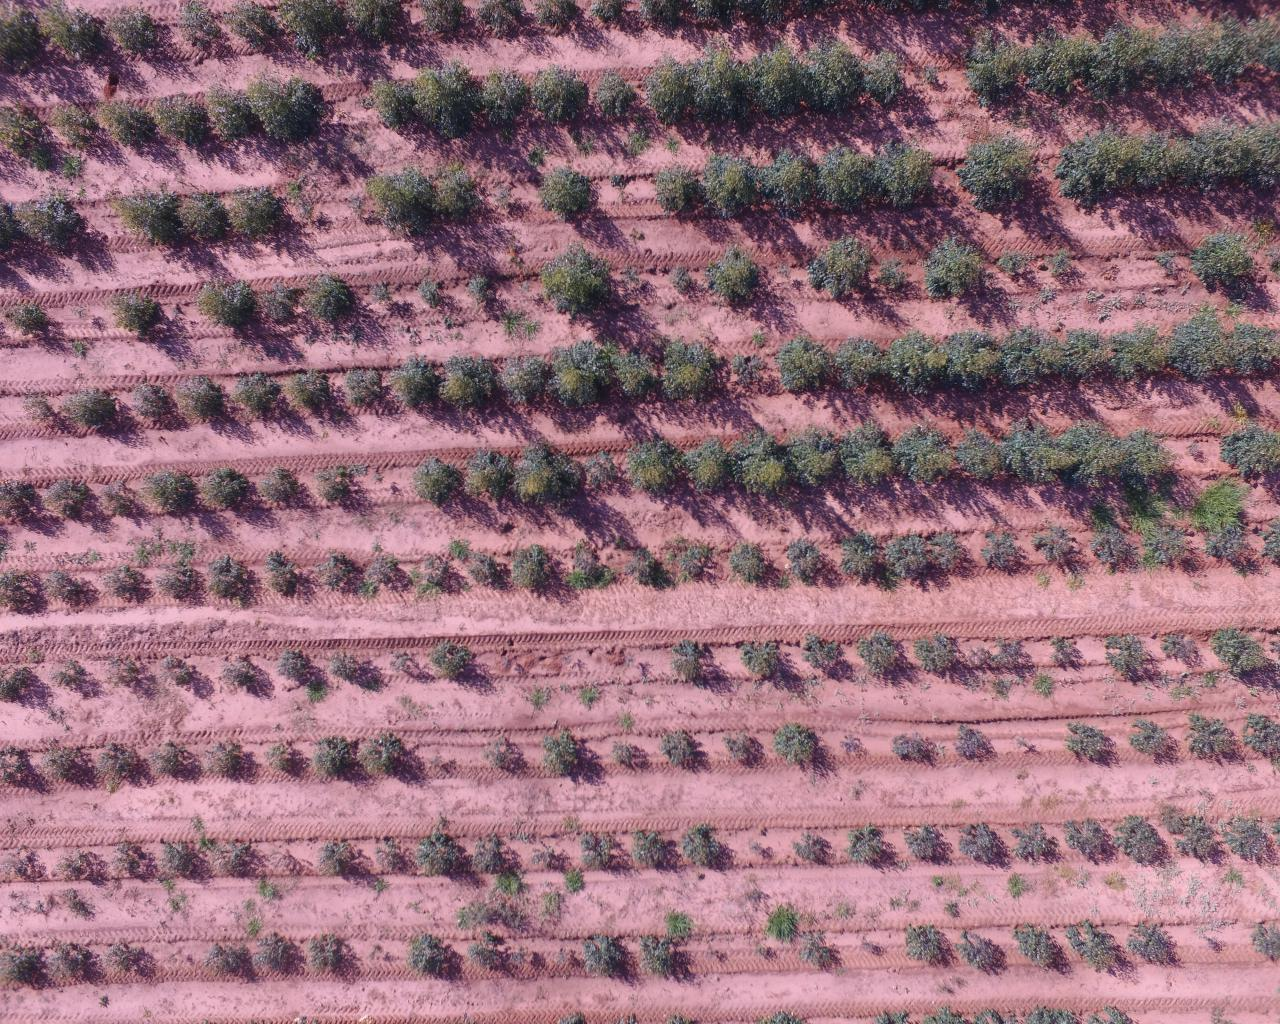Tree: (954, 133, 1033, 210), (20, 201, 106, 269), (545, 243, 619, 322), (253, 76, 327, 147), (1062, 135, 1133, 208), (921, 234, 993, 305), (745, 43, 808, 118), (113, 186, 178, 257), (536, 730, 609, 789), (811, 36, 860, 122), (1004, 418, 1060, 494), (704, 241, 765, 309), (879, 141, 934, 215), (418, 70, 479, 137), (838, 422, 897, 491), (810, 238, 868, 307), (1063, 417, 1119, 488), (357, 735, 429, 790), (115, 290, 171, 360), (731, 428, 786, 501), (370, 172, 434, 233), (1002, 326, 1062, 391), (895, 418, 952, 486), (1192, 232, 1255, 293), (515, 448, 582, 505), (762, 153, 816, 220), (1064, 916, 1123, 978), (550, 343, 602, 413), (887, 328, 942, 394), (1192, 123, 1243, 193), (787, 423, 837, 494), (693, 48, 738, 126), (313, 462, 371, 522), (703, 156, 757, 220), (820, 147, 872, 213), (1135, 133, 1187, 199), (944, 331, 1000, 392), (203, 277, 260, 335), (539, 168, 600, 224), (1111, 324, 1162, 389), (1063, 326, 1111, 395), (530, 65, 587, 122), (645, 57, 692, 127), (433, 641, 495, 693), (1119, 419, 1169, 483), (797, 626, 854, 682), (200, 464, 256, 520), (442, 353, 493, 415), (368, 76, 419, 138), (659, 344, 715, 400), (1014, 921, 1072, 974), (740, 642, 800, 693), (773, 722, 835, 772), (856, 630, 913, 683), (1188, 709, 1239, 769), (506, 541, 556, 602), (627, 441, 682, 495), (605, 348, 657, 405), (671, 641, 729, 692), (1066, 717, 1124, 768), (303, 271, 363, 321), (683, 436, 729, 501), (956, 420, 1002, 485), (218, 654, 279, 702), (388, 353, 433, 418), (777, 342, 834, 393), (1125, 921, 1184, 970), (231, 183, 283, 237), (61, 385, 122, 430), (496, 353, 546, 410), (203, 739, 260, 788), (836, 334, 884, 393), (653, 166, 705, 219), (38, 478, 92, 529), (955, 819, 1009, 870), (152, 97, 206, 148), (1126, 718, 1182, 768), (913, 633, 973, 679), (47, 658, 107, 704), (467, 452, 513, 512), (409, 455, 460, 508), (480, 70, 530, 124), (954, 926, 1006, 977), (9, 303, 64, 352), (1166, 321, 1206, 388), (843, 825, 897, 875), (947, 720, 1002, 767), (311, 736, 356, 793), (206, 91, 257, 141), (1224, 816, 1277, 864), (230, 373, 285, 419), (863, 46, 909, 101), (1064, 812, 1109, 868), (262, 737, 313, 786), (103, 654, 157, 701), (160, 655, 215, 700), (98, 474, 143, 530), (99, 565, 156, 609), (50, 944, 107, 987), (181, 191, 229, 242), (628, 825, 679, 874), (176, 377, 230, 422), (900, 823, 954, 868), (680, 824, 736, 868), (260, 552, 307, 603), (1227, 428, 1279, 474), (413, 831, 465, 877), (657, 734, 712, 777), (43, 571, 99, 612), (902, 926, 954, 971), (261, 463, 305, 516), (1011, 821, 1061, 868), (642, 937, 691, 984), (581, 935, 631, 981), (305, 930, 355, 976), (109, 837, 160, 882), (152, 740, 204, 784), (147, 469, 193, 518), (1248, 122, 1280, 191), (127, 378, 177, 423), (897, 536, 935, 592), (99, 106, 159, 142), (205, 556, 258, 597), (413, 938, 460, 984), (1215, 629, 1269, 669), (341, 365, 388, 410), (978, 530, 1027, 573), (0, 667, 49, 709), (930, 530, 976, 575), (53, 848, 110, 885), (717, 734, 769, 772), (52, 103, 104, 142), (440, 170, 474, 229), (1117, 820, 1164, 863), (42, 749, 96, 786), (997, 245, 1035, 296), (288, 368, 332, 413), (107, 942, 159, 980), (0, 743, 40, 792), (205, 942, 254, 981), (592, 68, 630, 118), (0, 569, 42, 614), (483, 734, 529, 774), (1029, 528, 1077, 566), (583, 448, 625, 492), (156, 565, 202, 605), (1186, 812, 1219, 866), (1, 476, 36, 529), (788, 827, 833, 866), (877, 255, 916, 298), (1103, 632, 1147, 671), (316, 841, 368, 874), (22, 392, 63, 433), (260, 935, 301, 976), (890, 728, 932, 768), (472, 838, 523, 870), (610, 739, 653, 777), (840, 533, 877, 578), (581, 835, 627, 870), (275, 649, 328, 679), (1160, 632, 1205, 668), (3, 951, 49, 985), (731, 542, 769, 584), (389, 650, 432, 686), (98, 744, 144, 777), (785, 536, 823, 575), (667, 264, 704, 304), (264, 284, 301, 325), (799, 935, 840, 970), (992, 636, 1031, 671), (1251, 922, 1280, 968), (1050, 636, 1085, 673), (528, 841, 571, 870), (372, 841, 412, 872), (465, 277, 505, 307), (330, 651, 369, 680), (1250, 716, 1279, 754), (839, 731, 872, 765), (736, 353, 768, 388), (166, 844, 197, 875), (466, 947, 501, 974), (415, 281, 446, 307), (1094, 537, 1128, 556), (370, 280, 394, 304), (1184, 438, 1205, 461)
